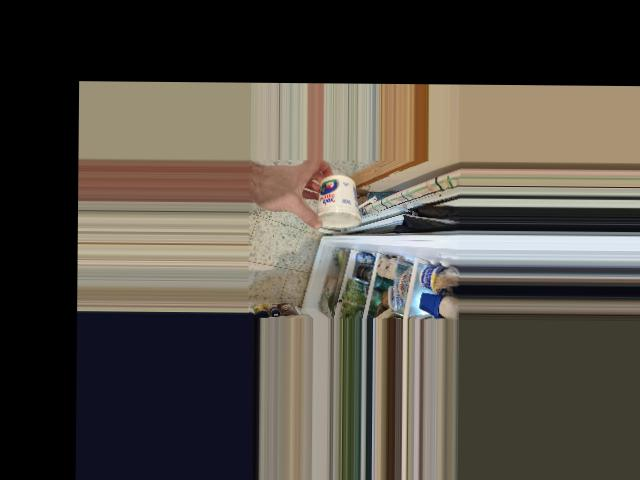cotage: (313, 178, 356, 226)
